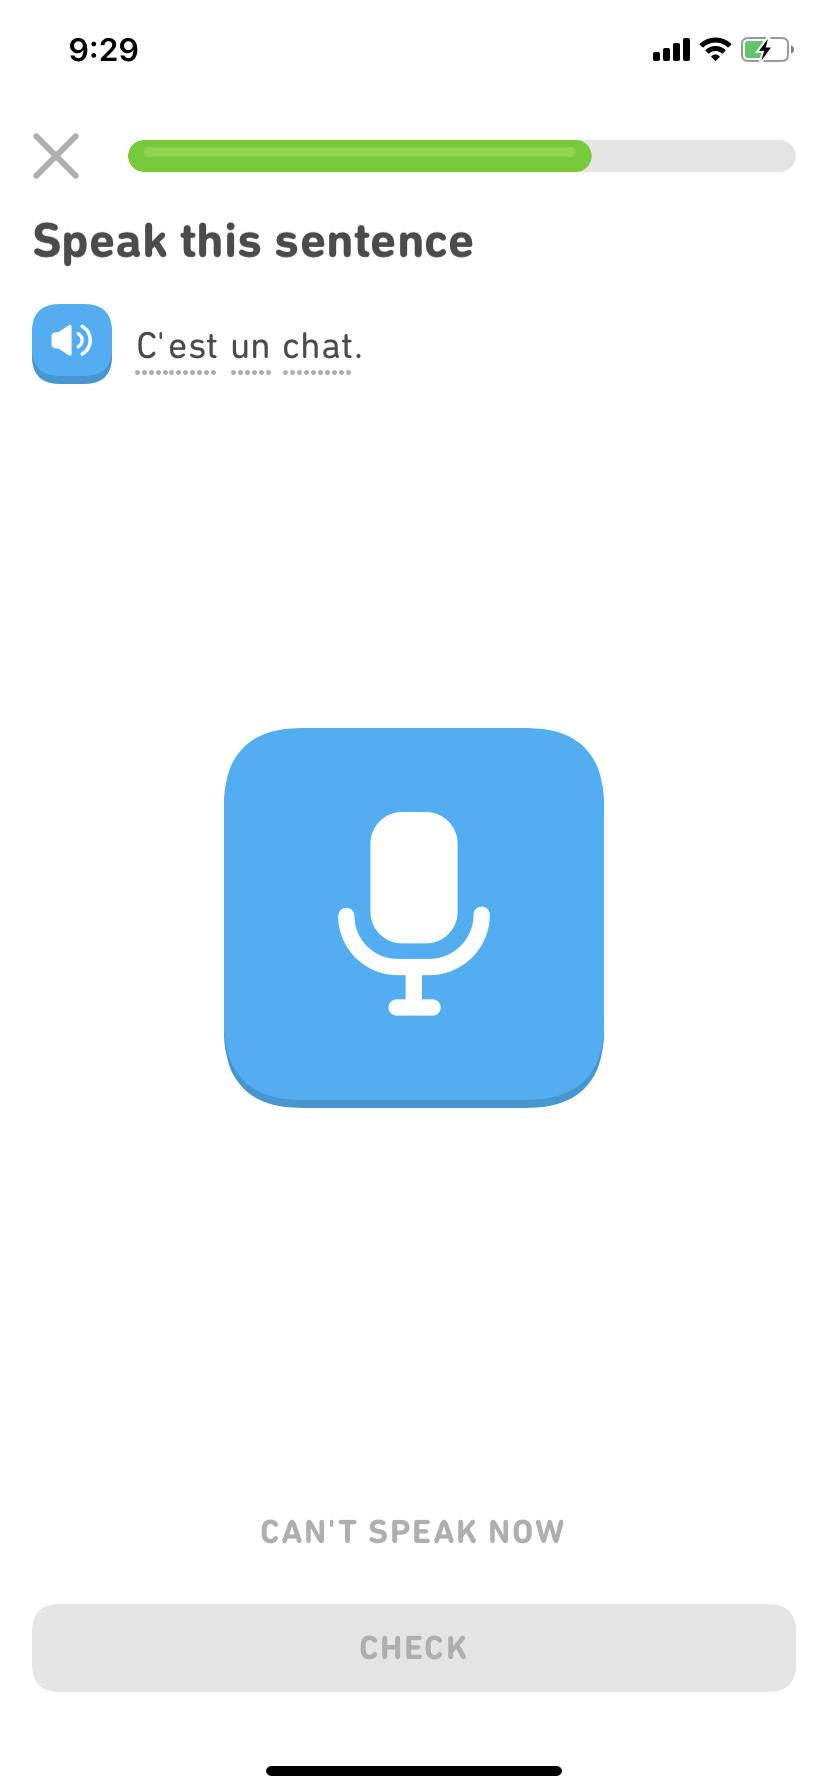Buttons: (24, 1587, 803, 1706)
Progress indicators: (117, 104, 811, 195)
